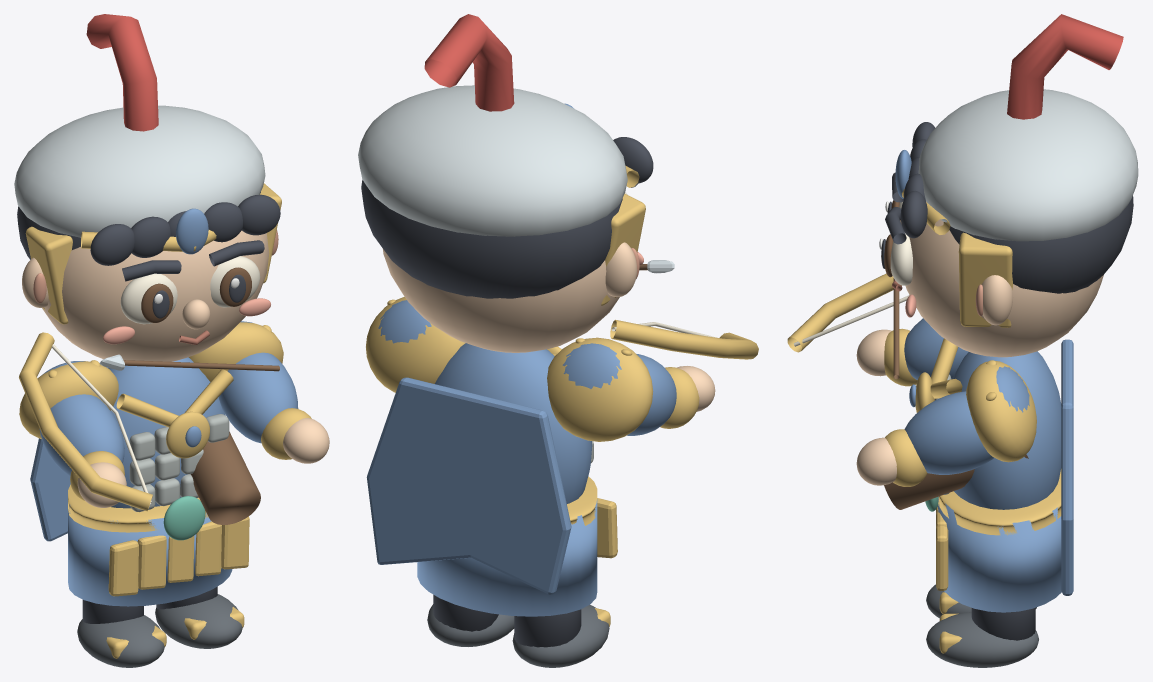
The model's file is zoujing.fbx.
3 views of the same model, side by side, from view 1: azimuth 30°, elevation 25°; view 2: azimuth 150°, elevation 25°; view 3: azimuth 270°, elevation 25° (orthographic). The views are drawn at different scales.
Parts seen in each view (by area): view 1: helmet, face, robe_skirt, body, plume, sleeve, quiver, recurve_bow, sleeve.001, boot, boot.001, shoulder_gold.001 (+43 smaller); view 2: cape, helmet, hair_mass, face, robe_skirt, body, shoulder_gold.001, plume, shoulder_gold, recurve_bow, boot, leg (+12 smaller); view 3: helmet, face, robe_skirt, body, hair_mass, plume, sleeve, shoulder_gold, boot.001, cape, cheek_guard.001, belt (+20 smaller).
Boxes of the visible parts, x1=… form: helmet: x1=14, y1=105, x2=265, y2=237; face: x1=42, y1=230, x2=269, y2=361; robe_skirt: x1=68, y1=505, x2=232, y2=606; body: x1=108, y1=357, x2=225, y2=508; plume: x1=86, y1=14, x2=158, y2=131; sleeve: x1=218, y1=352, x2=298, y2=443; quiver: x1=190, y1=431, x2=260, y2=524; recurve_bow: x1=19, y1=332, x2=152, y2=511; sleeve.001: x1=39, y1=394, x2=124, y2=476; boot: x1=77, y1=615, x2=164, y2=667; boot.001: x1=155, y1=594, x2=242, y2=648; shoulder_gold.001: x1=19, y1=361, x2=118, y2=439; cape: x1=366, y1=377, x2=571, y2=594; helmet: x1=358, y1=85, x2=627, y2=236; hair_mass: x1=361, y1=180, x2=622, y2=298; face: x1=382, y1=248, x2=619, y2=352; robe_skirt: x1=417, y1=499, x2=597, y2=616; body: x1=435, y1=343, x2=592, y2=503; shoulder_gold.001: x1=547, y1=337, x2=653, y2=441; plume: x1=424, y1=14, x2=514, y2=111; shoulder_gold: x1=366, y1=296, x2=465, y2=392; recurve_bow: x1=610, y1=319, x2=758, y2=359; boot: x1=512, y1=605, x2=609, y2=667; leg: x1=514, y1=609, x2=581, y2=647; helmet: x1=918, y1=89, x2=1138, y2=241; face: x1=900, y1=219, x2=1103, y2=357; robe_skirt: x1=937, y1=497, x2=1061, y2=612; body: x1=952, y1=351, x2=1061, y2=509; hair_mass: x1=949, y1=196, x2=1133, y2=293; plume: x1=1007, y1=14, x2=1123, y2=119; sleeve: x1=904, y1=391, x2=994, y2=474; shoulder_gold: x1=966, y1=361, x2=1036, y2=462; boot.001: x1=926, y1=612, x2=1038, y2=667; cape: x1=1061, y1=339, x2=1073, y2=595; cheek_guard.001: x1=958, y1=232, x2=1012, y2=327; belt: x1=938, y1=469, x2=1061, y2=535.
Bounding box in the file's own units: 1.38 × 2.81 × 1.43.
